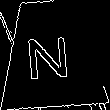N_N: (26, 27, 75, 81)
